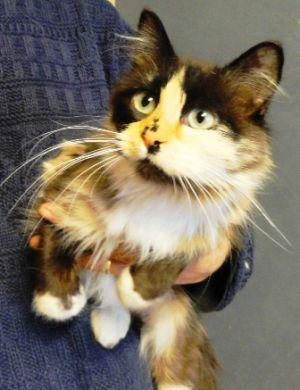ragdoll: (107, 1, 296, 194)
